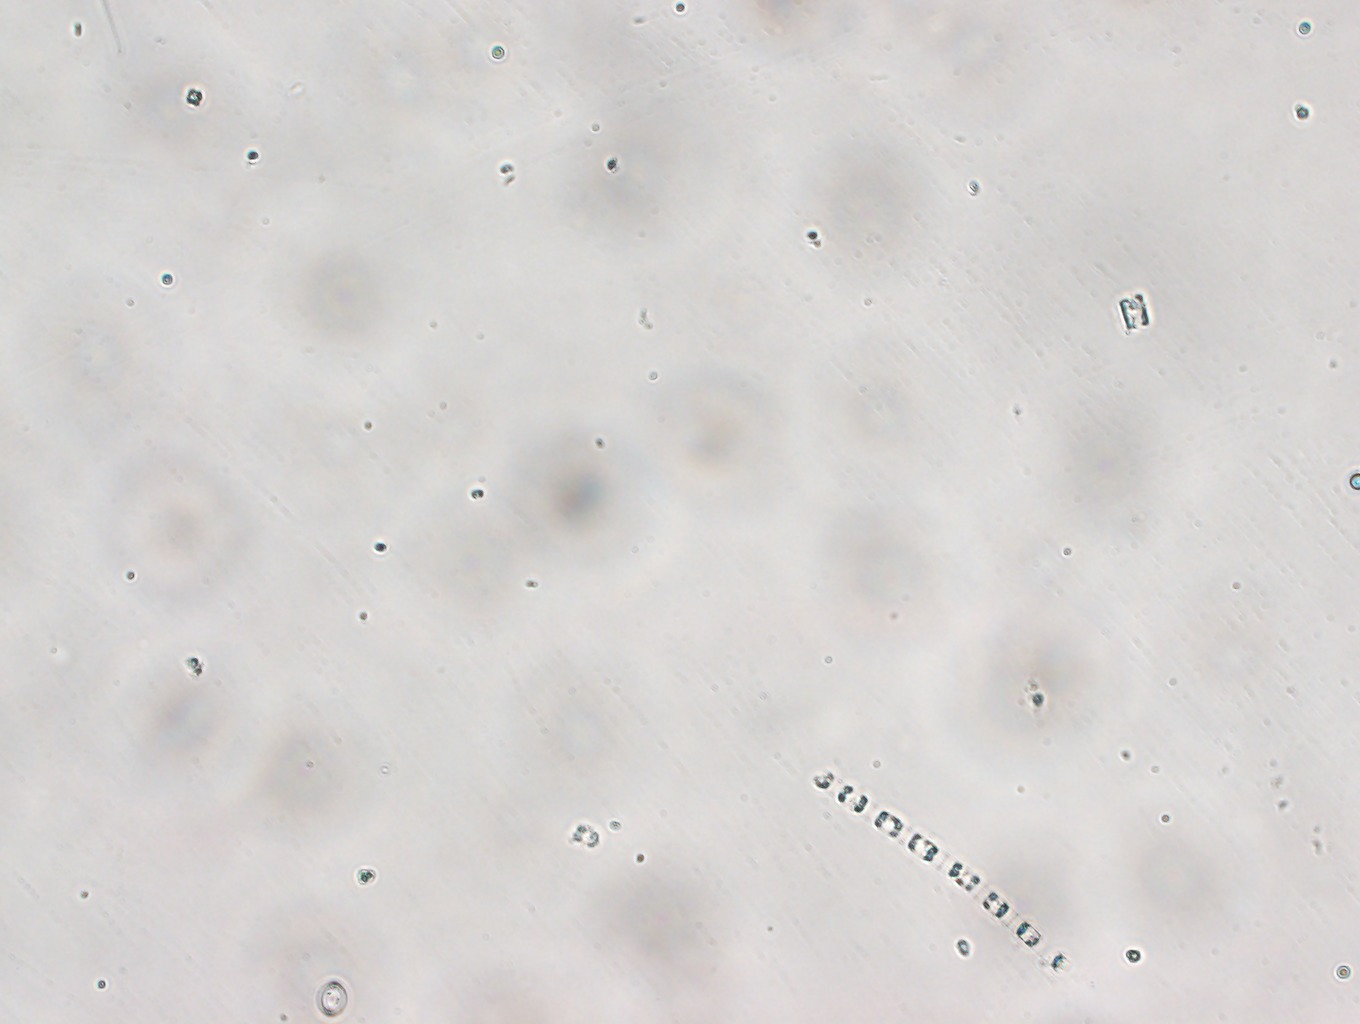skeletonema: (797, 765, 1068, 976)
